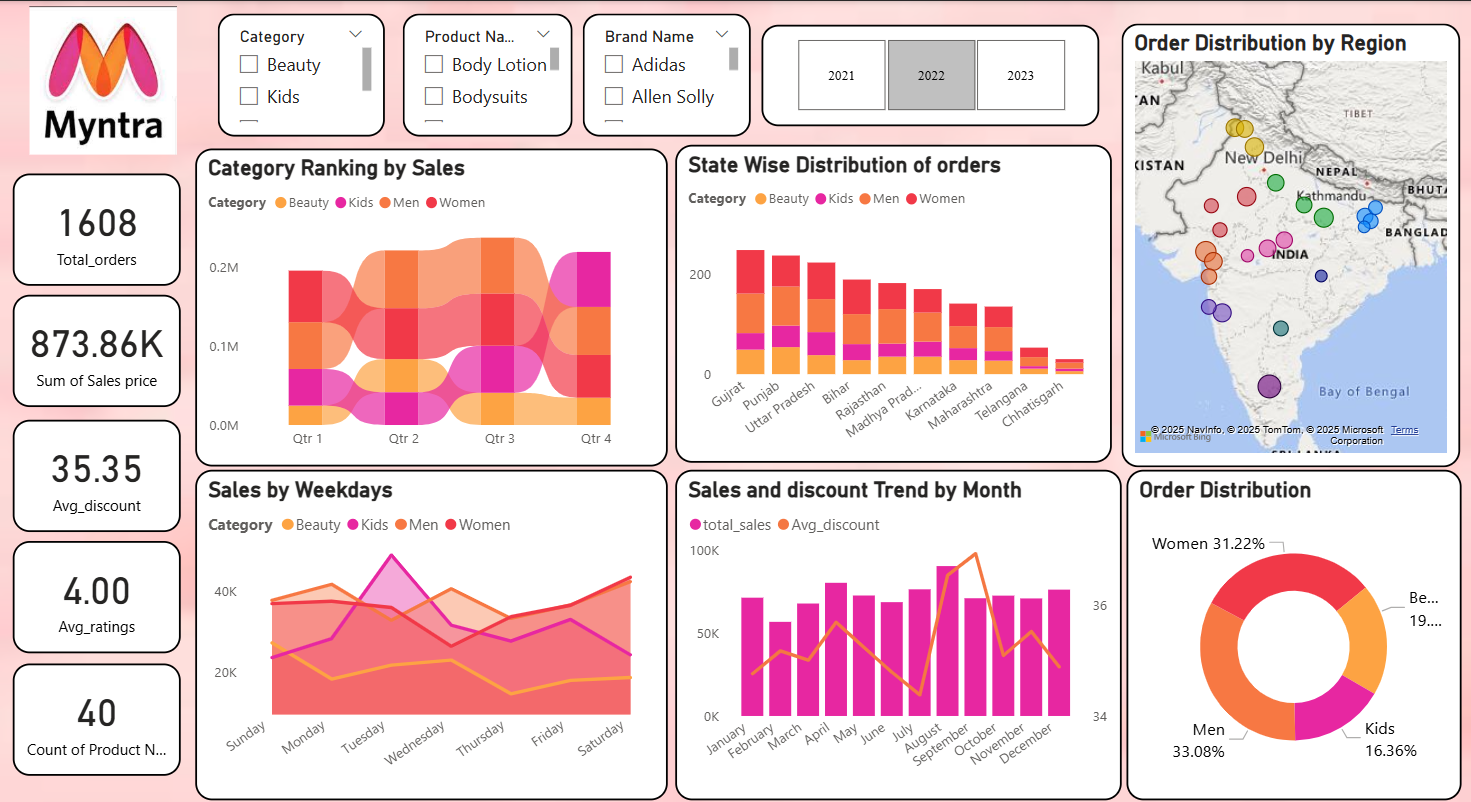

The page's visual inventory and layout, read from the dashboard file:
{"tool":"powerbi","page":{"name":"Page 1","canvas":[1313,720],"ordinal":0},"visuals":[{"type":"card","fields":{"Values":["Measures (2).Total_orders"]},"box":[12.3,153.4,149.7,100],"z":0},{"type":"card","fields":{"Values":["Sum(fact_orders.Sales price)"]},"box":[12.3,261.4,149.7,100],"z":1000},{"type":"card","fields":{"Values":["Measures (2).Avg_discount"]},"box":[12.3,373,149.7,100],"z":2000},{"type":"card","fields":{"Values":["Measures (2).Avg_ratings"]},"box":[12.3,481,149.7,100],"z":4000},{"type":"donutChart","title":"Order Distribution","fields":{"Category":["dim_products.Category"],"Y":["CountNonNull(fact_orders.Order ID)"]},"box":[1003.7,417.2,298.2,294.5],"z":5000},{"type":"columnChart","title":"State Wise Distribution of orders","fields":{"Y":["CountNonNull(fact_orders.Order ID)"],"Category":["dim_customers.State"],"Series":["dim_products.Category"]},"box":[602.5,127.6,389,283.4],"z":6000},{"type":"lineClusteredColumnComboChart","title":"Sales and discount Trend by Month","fields":{"Category":["Date_table.Month_NAME"],"Y":["Measures (2).total_sales"],"Y2":["Measures (2).Avg_discount"]},"box":[602.5,417.2,397.5,294.5],"z":7000},{"type":"ribbonChart","title":"Category Ranking by Sales","fields":{"Y":["Measures (2).total_sales"],"Series":["dim_products.Category"],"Category":["Date_table.Date.Variation.Date Hierarchy.Quarter"]},"box":[174.2,131.3,420.9,283.4],"z":8000},{"type":"slicer","fields":{"Values":["dim_products.Brand Name"]},"box":[520.2,11,149.7,109.2],"z":9000},{"type":"slicer","fields":{"Values":["dim_products.Product Name"]},"box":[359.5,11,150.9,109.2],"z":10000},{"type":"slicer","fields":{"Values":["dim_products.Category"]},"box":[195.1,11,148.5,109.2],"z":11000},{"type":"map","title":"Order Distribution by Region","fields":{"Category":["dim_customers.City"],"Series":["dim_customers.State"],"Size":["Measures (2).Total_orders"]},"box":[1000,19.6,301.8,395.1],"z":12000},{"type":"areaChart","title":"Sales by Weekdays","fields":{"Category":["Date_table.Day of Week"],"Y":["Measures (2).total_sales"],"Series":["dim_products.Category"]},"box":[174.2,417.2,420.9,294.5],"z":13000},{"type":"image","box":[0,0,186.1,141.9],"z":14000},{"type":"slicer","fields":{"Values":["Date_table.Year"]},"box":[678.5,20.9,300.6,90.8],"z":15000},{"type":"card","fields":{"Values":["Count(dim_products.Product Name)"]},"box":[12.3,590.2,149.7,100],"z":16000}]}

Visuals, with their boxes in screenshot pixels (x1, y1, x2, y2), scaled from the page's 1313x720 canvas onto the 1471x802 screenshot:
card - Measures (2).Total_orders: l=14, t=171, r=181, b=282
card - Sum(fact_orders.Sales price): l=14, t=291, r=181, b=403
card - Measures (2).Avg_discount: l=14, t=415, r=181, b=527
card - Measures (2).Avg_ratings: l=14, t=536, r=181, b=647
"Order Distribution" donutChart: l=1124, t=465, r=1459, b=793
"State Wise Distribution of orders" columnChart: l=675, t=142, r=1111, b=458
"Sales and discount Trend by Month" lineClusteredColumnComboChart: l=675, t=465, r=1120, b=793
"Category Ranking by Sales" ribbonChart: l=195, t=146, r=667, b=462
slicer - dim_products.Brand Name: l=583, t=12, r=751, b=134
slicer - dim_products.Product Name: l=403, t=12, r=572, b=134
slicer - dim_products.Category: l=219, t=12, r=385, b=134
"Order Distribution by Region" map: l=1120, t=22, r=1458, b=462
"Sales by Weekdays" areaChart: l=195, t=465, r=667, b=793
image: l=0, t=0, r=208, b=158
slicer - Date_table.Year: l=760, t=23, r=1097, b=124
card - Count(dim_products.Product Name): l=14, t=657, r=181, b=769
